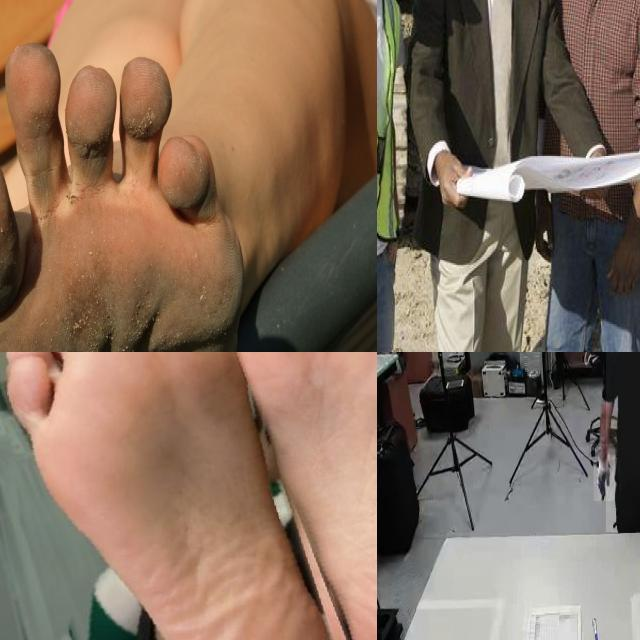Barefoots: (0, 352, 348, 640), (0, 41, 244, 352), (201, 352, 377, 640)
hand_glove: (594, 444, 616, 502)
person: (605, 352, 640, 533)
